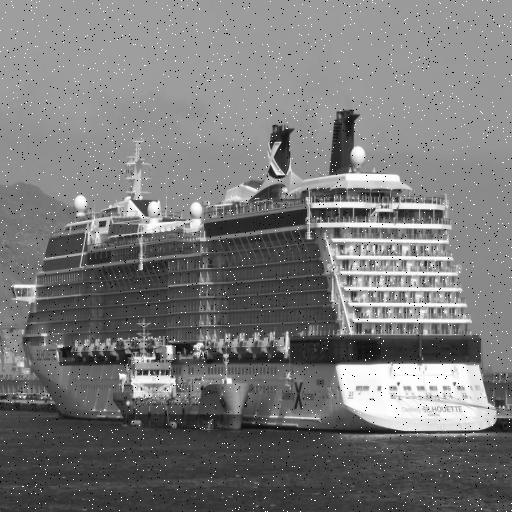cruises: (8, 107, 501, 448)
